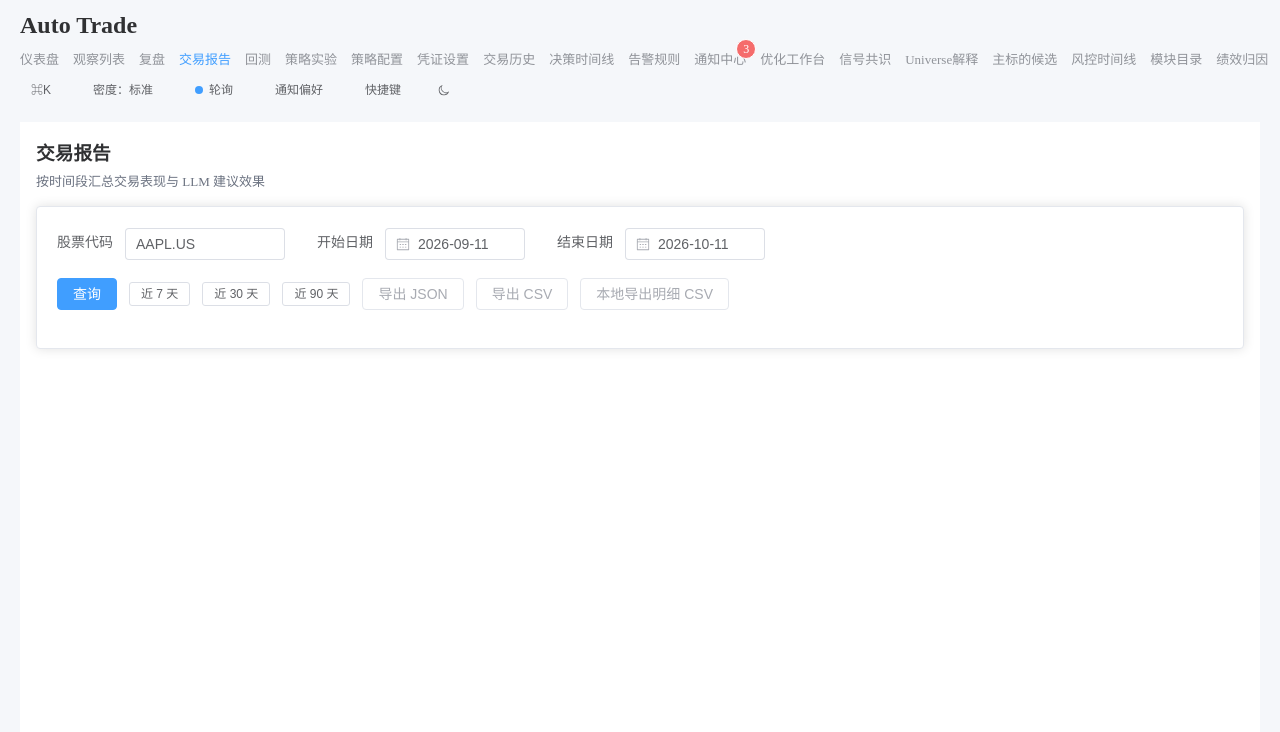
Test: Statistics quality warnings › shows known historical exclusions as a warning
This screenshot has width=1280, height=732.
Click the button with test id "reports-search": (87, 294) [57, 278, 117, 310]
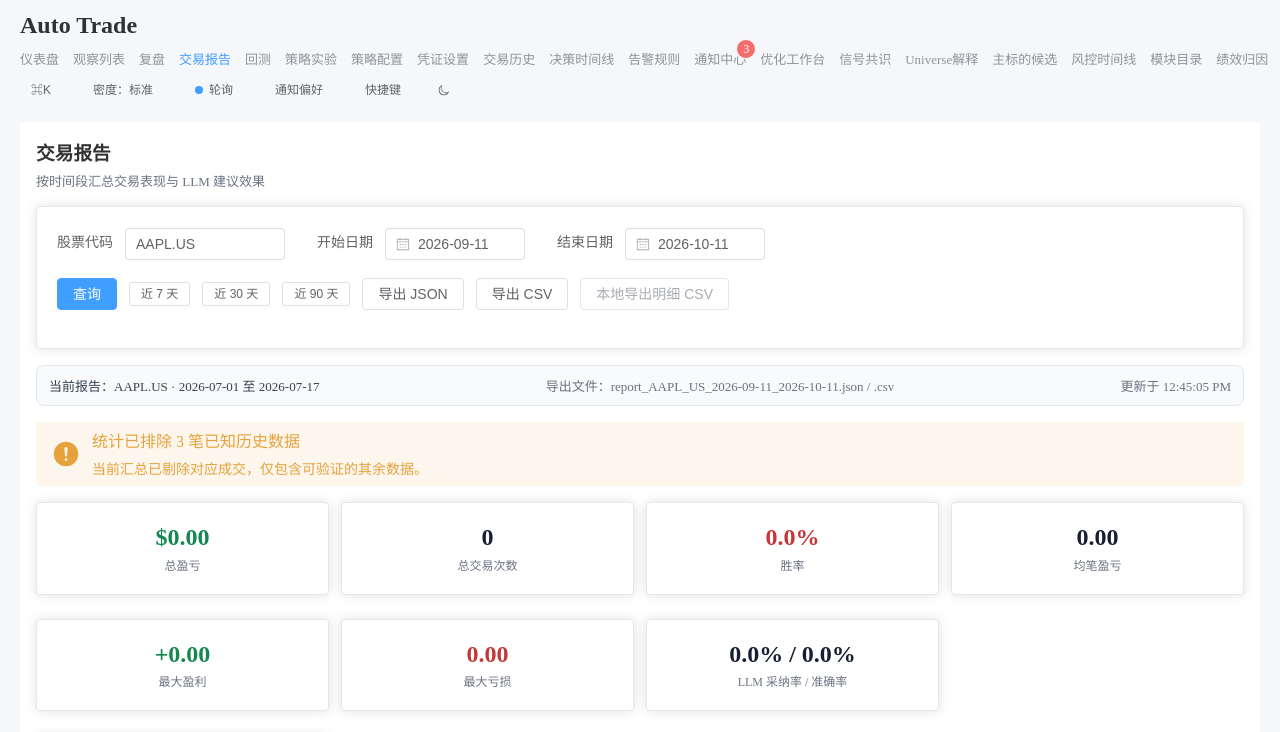
Result: the text with test id "statistics-quality-alert" reads "统计已排除 3 笔已知历史数据" at [92, 433, 300, 450]
